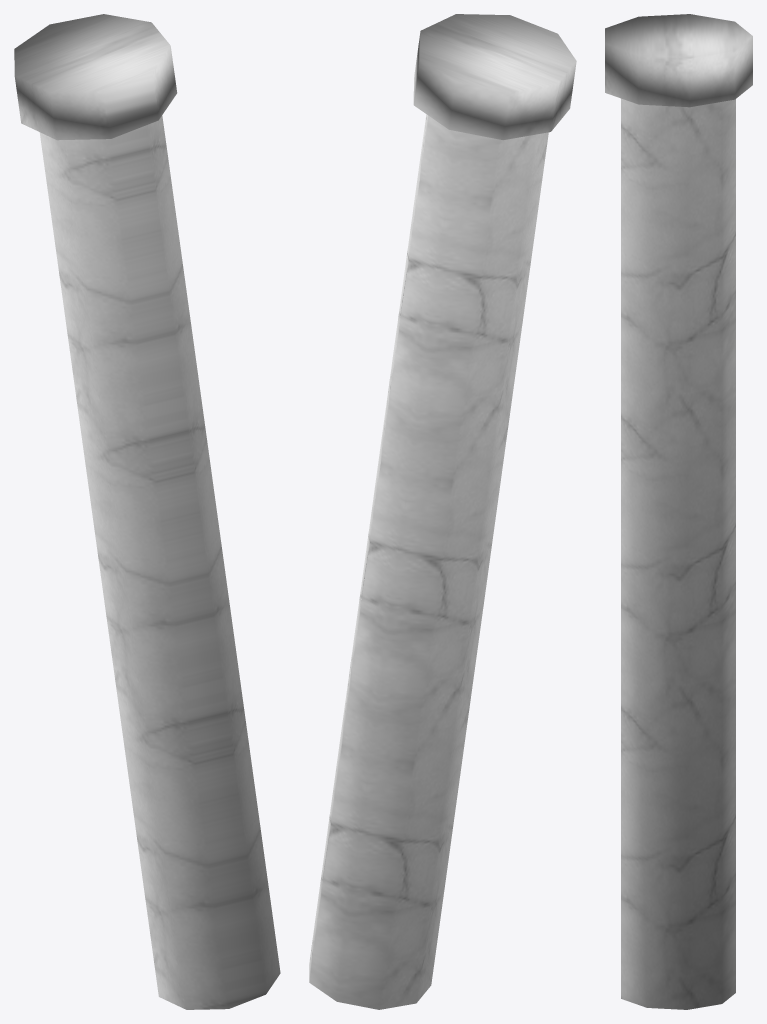
The model's file is pillar.obj.
The picture shows the model from 3 angles, left to right: view 1: azimuth 30°, elevation 25°; view 2: azimuth 150°, elevation 25°; view 3: azimuth 270°, elevation 25°; orthographic projection. The views are drawn at different scales.
Visible parts, largest first — view 1: Cylinder_003_Cylinder_006; view 2: Cylinder_003_Cylinder_006; view 3: Cylinder_003_Cylinder_006.
Boxes of the visible parts, x1=… form: Cylinder_003_Cylinder_006: x1=14, y1=14, x2=280, y2=1009; Cylinder_003_Cylinder_006: x1=309, y1=14, x2=576, y2=1009; Cylinder_003_Cylinder_006: x1=605, y1=14, x2=752, y2=1009.
Size of the model in its own units: 0.197 by 0.7355 by 0.1076.
1 material, 1 textured.
